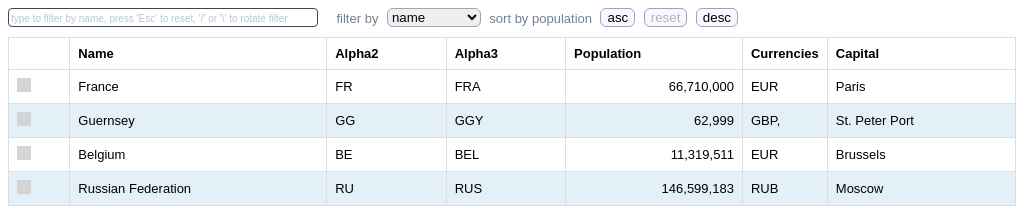
Test: countries table tests › sorting tests › should sort ascending
Click the button "asc": coordinates (618, 18) [600, 8, 635, 27]
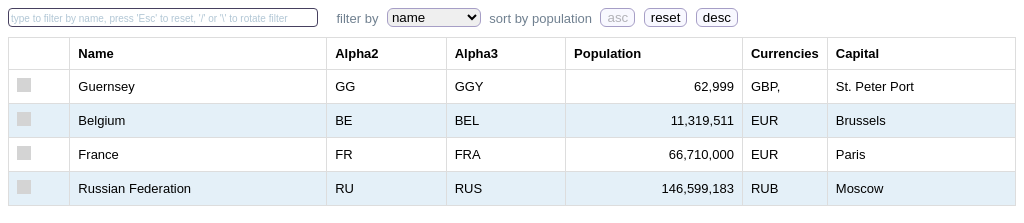
Expected: the cell with test id "first-row" reads "GGY", [455, 79, 484, 94]
Expected: the button "reset" is enabled, [644, 8, 687, 27]
Expected: the button "asc" is disabled, [600, 8, 635, 27]
